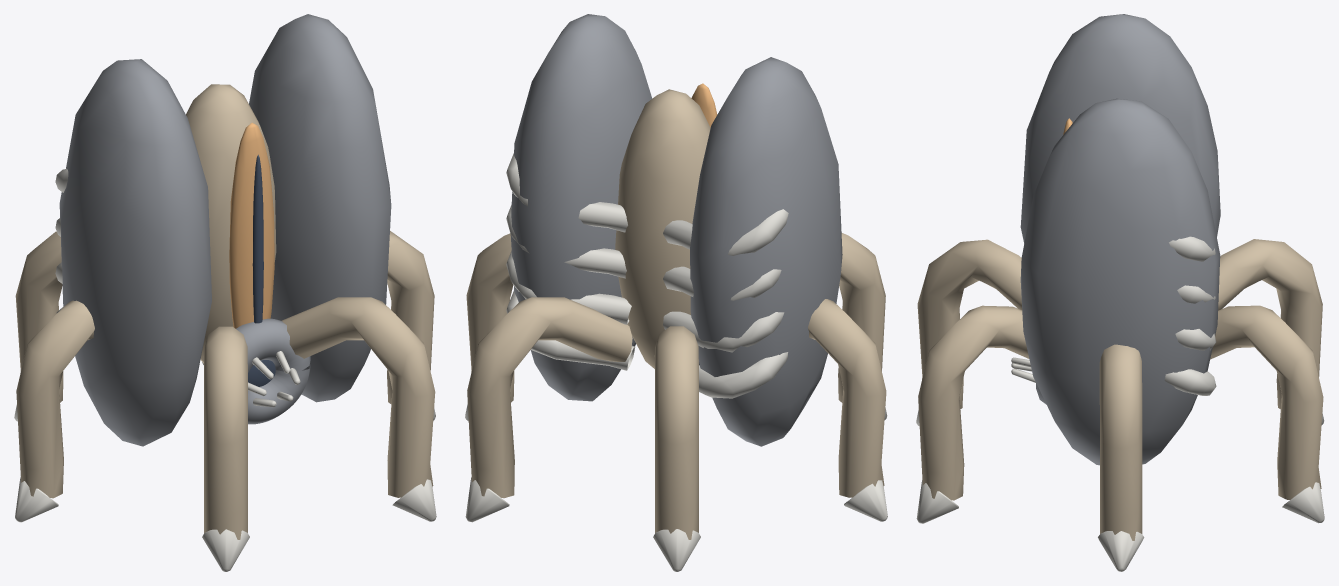
The model's file is bio_window_sac_06_far.glb.
The picture shows the model from 3 angles, left to right: view 1: azimuth 30°, elevation 25°; view 2: azimuth 150°, elevation 25°; view 3: azimuth 270°, elevation 25°; orthographic projection. The views are drawn at different scales.
Parts seen in each view (by area): view 1: Separated curved shell, Crooked support.004, Crooked support.003, Crooked support.002, Internal receptor sac, Single vertical photoreceptor, Crooked support.005, Raised oral lip, Crooked support.001, Long internal pupil, Contact spur.003, Contact spur.004 (+2 smaller); view 2: Separated curved shell, Internal receptor sac, Shell window buttress, Crooked support, Crooked support.001, Crooked support.002, Crooked support.003, Crooked support.005, Contact spur.001, Contact spur.002, Contact spur, Single vertical photoreceptor; view 3: Separated curved shell, Crooked support, Crooked support.004, Crooked support.005, Crooked support.001, Crooked support.003, Shell window buttress, Contact spur.005, Contact spur, Contact spur.004.
Boxes of the visible parts, <box> form: Separated curved shell: <box>59,14,391,446</box>; Crooked support.004: <box>281,297,435,497</box>; Crooked support.003: <box>203,326,247,539</box>; Crooked support.002: <box>16,300,94,498</box>; Internal receptor sac: <box>186,84,276,363</box>; Single vertical photoreceptor: <box>229,122,274,328</box>; Crooked support.005: <box>387,231,434,403</box>; Raised oral lip: <box>236,318,310,424</box>; Crooked support.001: <box>15,231,63,402</box>; Long internal pupil: <box>252,154,263,323</box>; Contact spur.003: <box>202,529,249,571</box>; Contact spur.004: <box>392,479,436,521</box>; Separated curved shell: <box>510,14,842,446</box>; Internal receptor sac: <box>615,89,710,368</box>; Shell window buttress: <box>506,153,788,398</box>; Crooked support: <box>467,297,632,498</box>; Crooked support.001: <box>654,326,698,539</box>; Crooked support.002: <box>808,299,886,497</box>; Crooked support.003: <box>838,233,885,402</box>; Crooked support.005: <box>466,233,514,402</box>; Contact spur.001: <box>653,529,700,571</box>; Contact spur.002: <box>844,480,887,521</box>; Contact spur: <box>465,477,509,522</box>; Single vertical photoreceptor: <box>691,83,717,127</box>; Separated curved shell: <box>1020,14,1220,465</box>; Crooked support: <box>1210,305,1323,499</box>; Crooked support.004: <box>918,305,1029,500</box>; Crooked support.005: <box>1099,344,1142,540</box>; Crooked support.001: <box>1218,239,1322,408</box>; Crooked support.003: <box>917,239,1022,408</box>; Shell window buttress: <box>1164,236,1216,395</box>; Contact spur.005: <box>1098,531,1144,571</box>; Contact spur: <box>1282,482,1324,523</box>; Contact spur.004: <box>916,480,958,523</box>.
Size of the model in its own units: 2.11 by 2.07 by 1.84.
